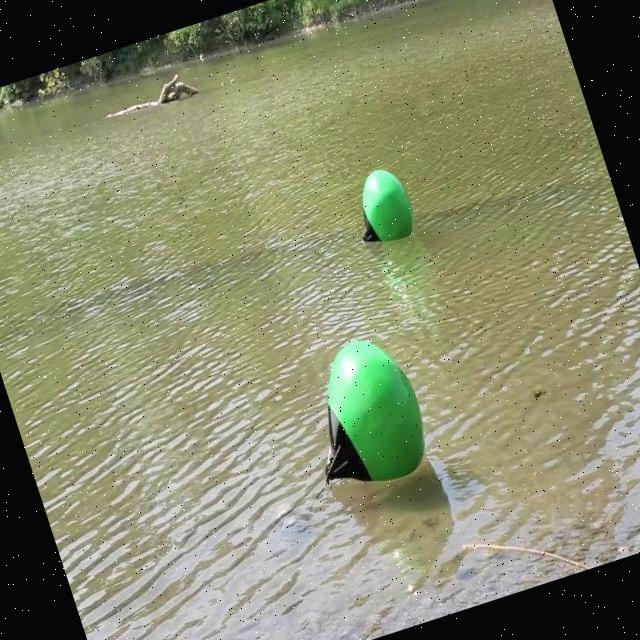buoy: (284, 326, 438, 504), (346, 164, 419, 248)
